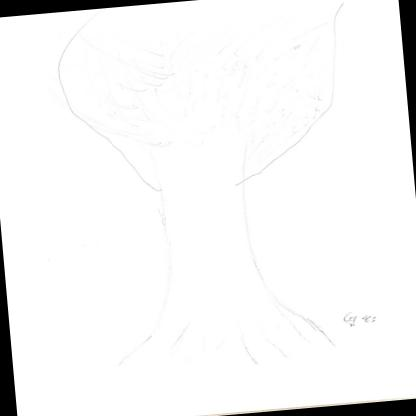crown_mushroom: (39, 0, 368, 199)
root_only: (111, 292, 346, 394)
trunk_straight: (140, 182, 276, 303)
